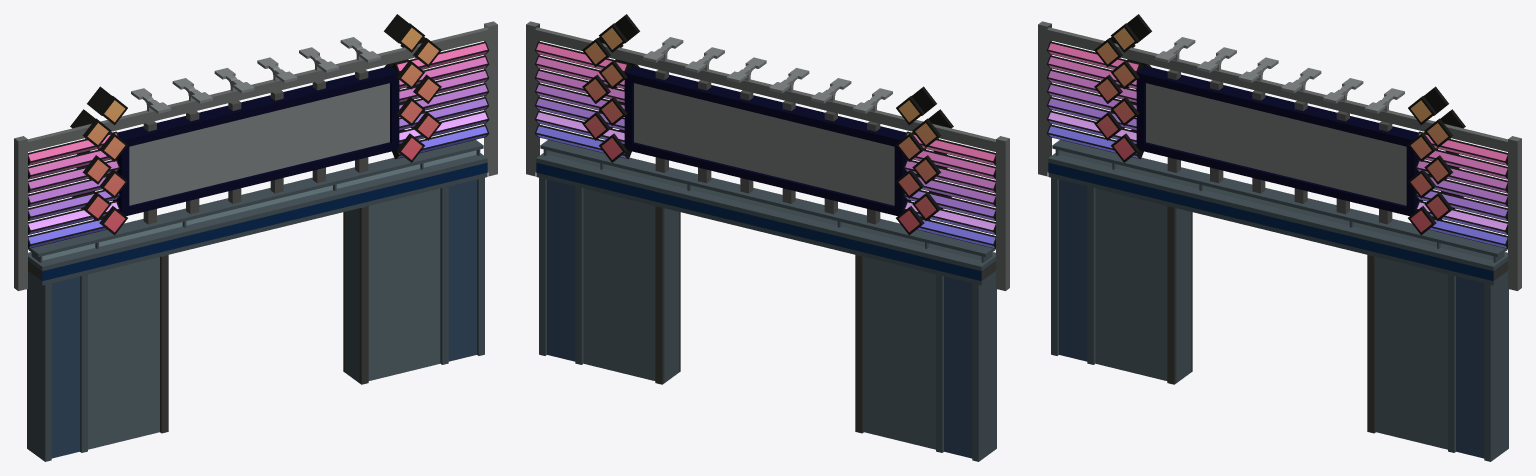
The model's file is congmap1-1.fbx.
3 views of the same model, side by side, from view 1: azimuth 30°, elevation 25°; view 2: azimuth 150°, elevation 25°; view 3: azimuth 330°, elevation 25° (orthographic).
Parts seen in each view (by area): view 1: Cube.054; view 2: Cube.054; view 3: Cube.054.
Boxes of the visible parts, x1=… form: Cube.054: x1=14, y1=14, x2=497, y2=461; Cube.054: x1=526, y1=14, x2=1009, y2=461; Cube.054: x1=1038, y1=14, x2=1521, y2=461.
Bounding box in the file's own units: 10.86 × 7.49 × 1.07.
